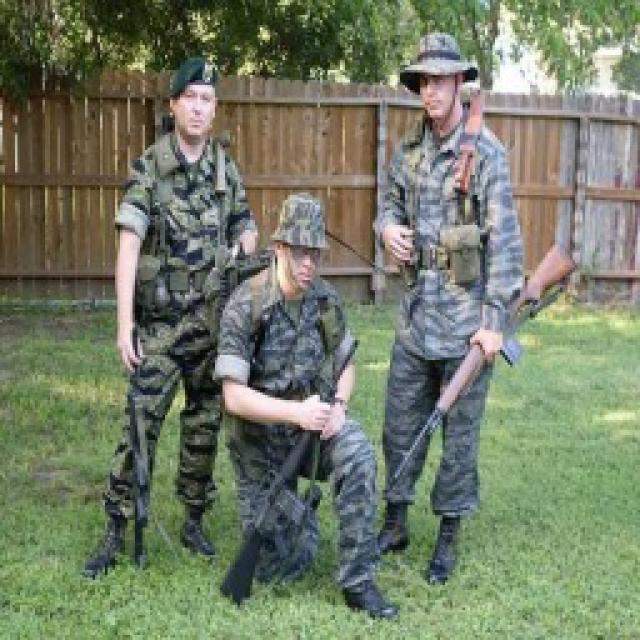long weapon: (194, 318, 381, 626), (387, 238, 574, 506), (110, 316, 174, 592)
